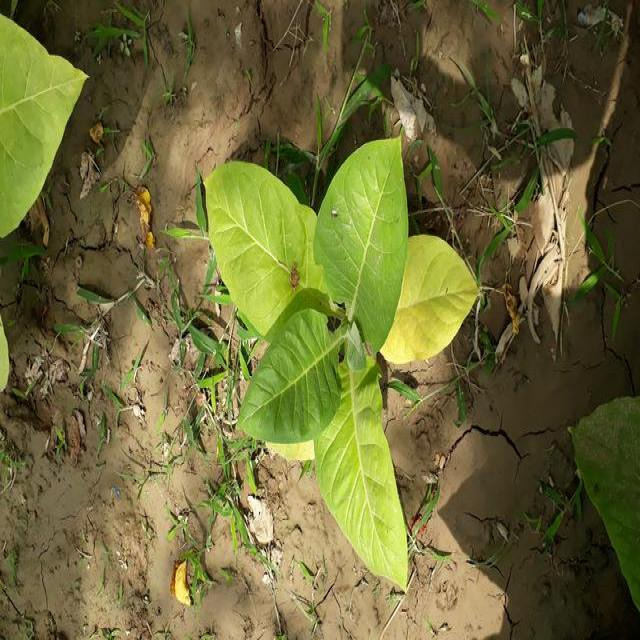crop: (200, 154, 474, 586), (0, 13, 80, 244)
